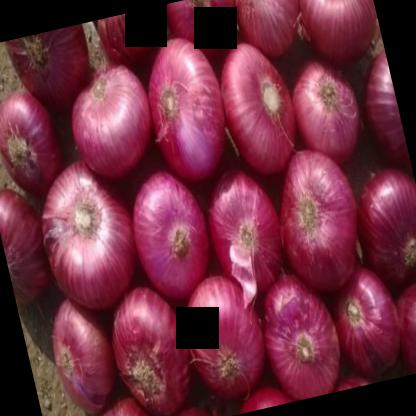onion: (30, 152, 148, 314), (264, 146, 374, 299), (136, 32, 240, 186), (197, 156, 295, 304), (122, 167, 223, 308), (60, 57, 164, 188), (175, 264, 275, 400), (212, 37, 306, 178), (104, 282, 202, 415), (252, 272, 350, 404), (283, 52, 371, 176), (324, 260, 412, 377), (44, 291, 124, 415), (344, 156, 415, 291), (8, 23, 101, 121), (0, 84, 67, 194), (0, 180, 56, 301), (293, 0, 386, 72), (228, 0, 311, 66)
